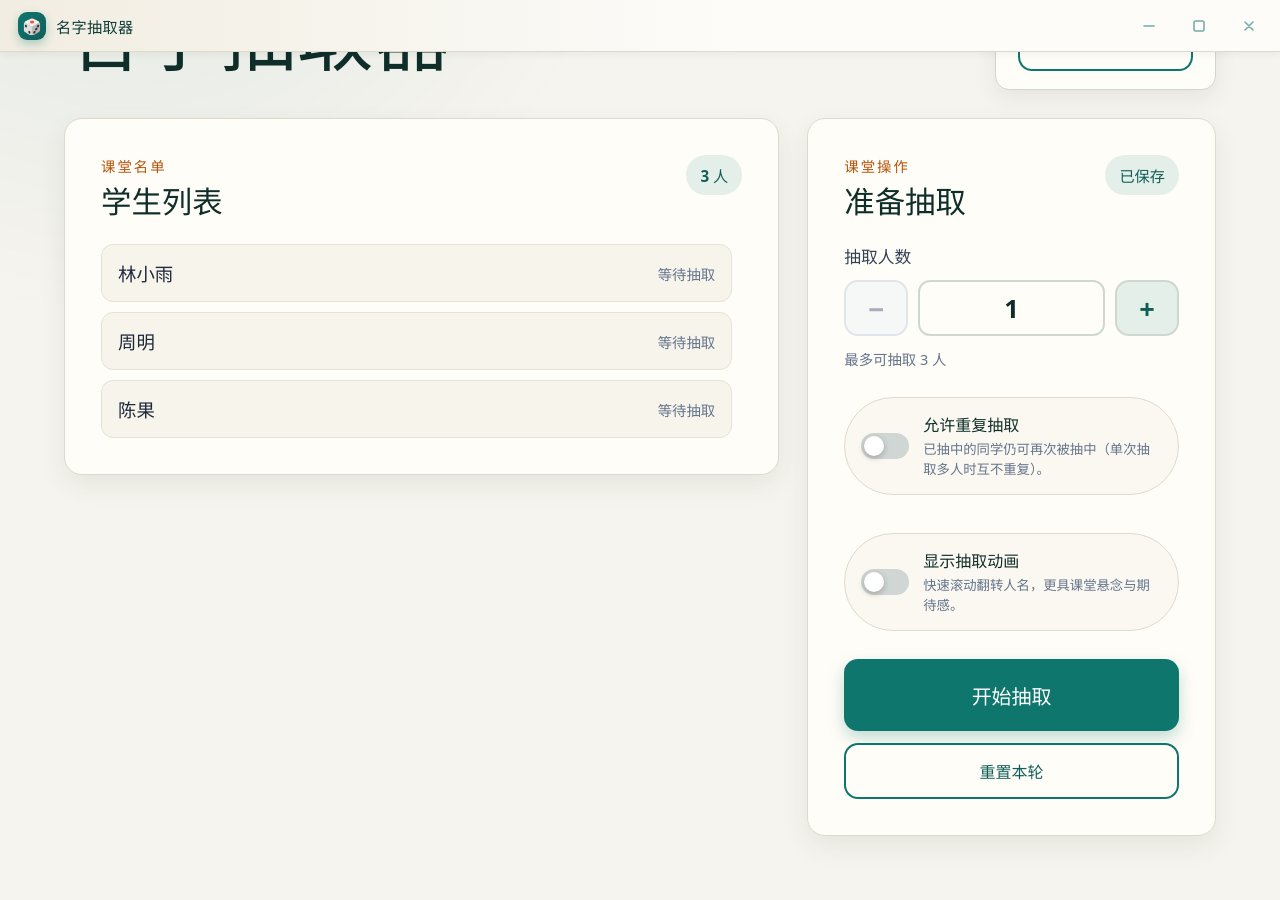
课堂主界面 › 抽取结果显示在全部名单区域上方，且抽取后默认触发全屏展示
The width and height of the screenshot is (1280, 900).
(page scrolled)
Click the button "开始抽取" at (1012, 695), box [844,659,1179,731]
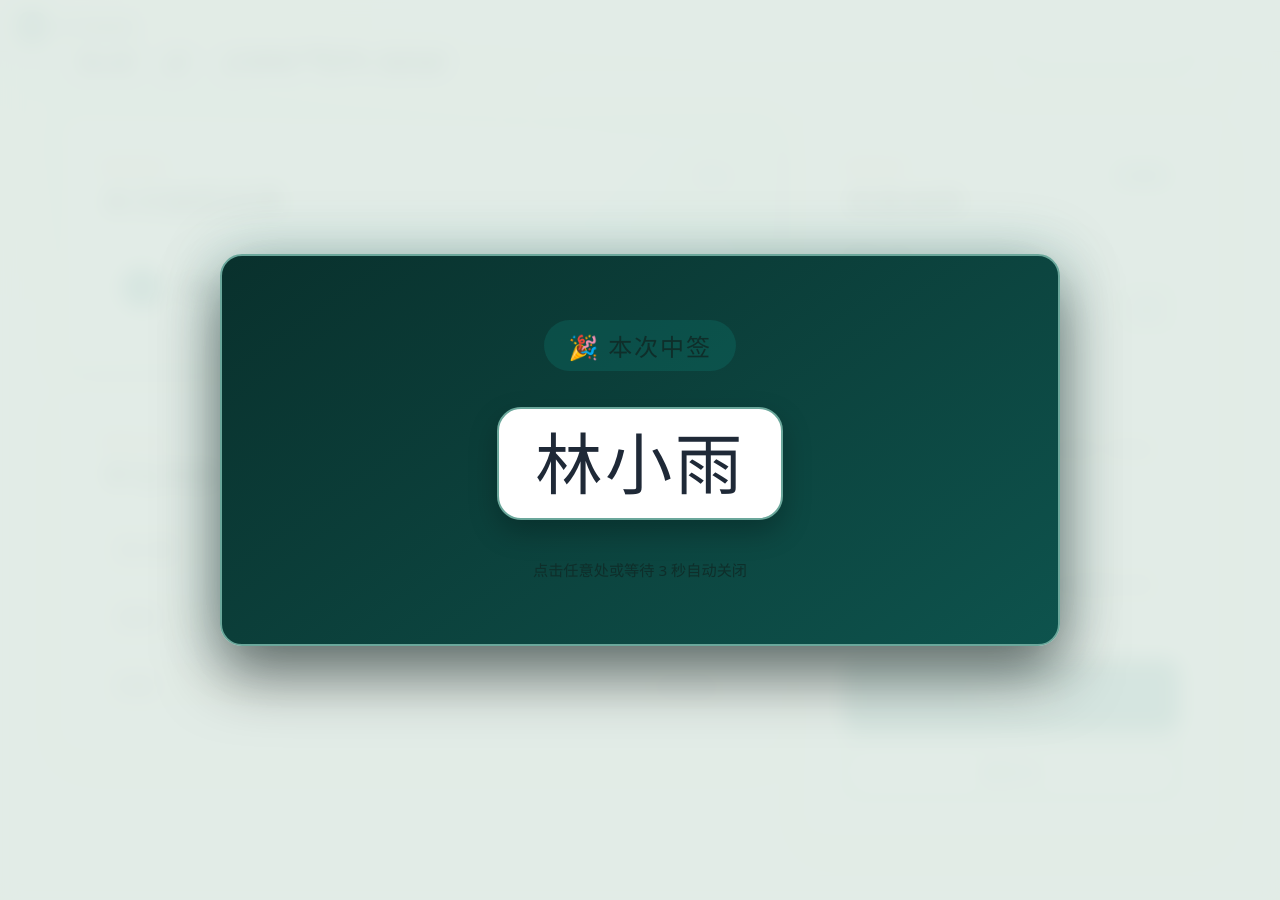
Expected: the dialog named "抽取结果全屏展示" is shown
Expected: the text "点击任意处或等待 3 秒自动关闭" is shown, [533,558,747,580]
